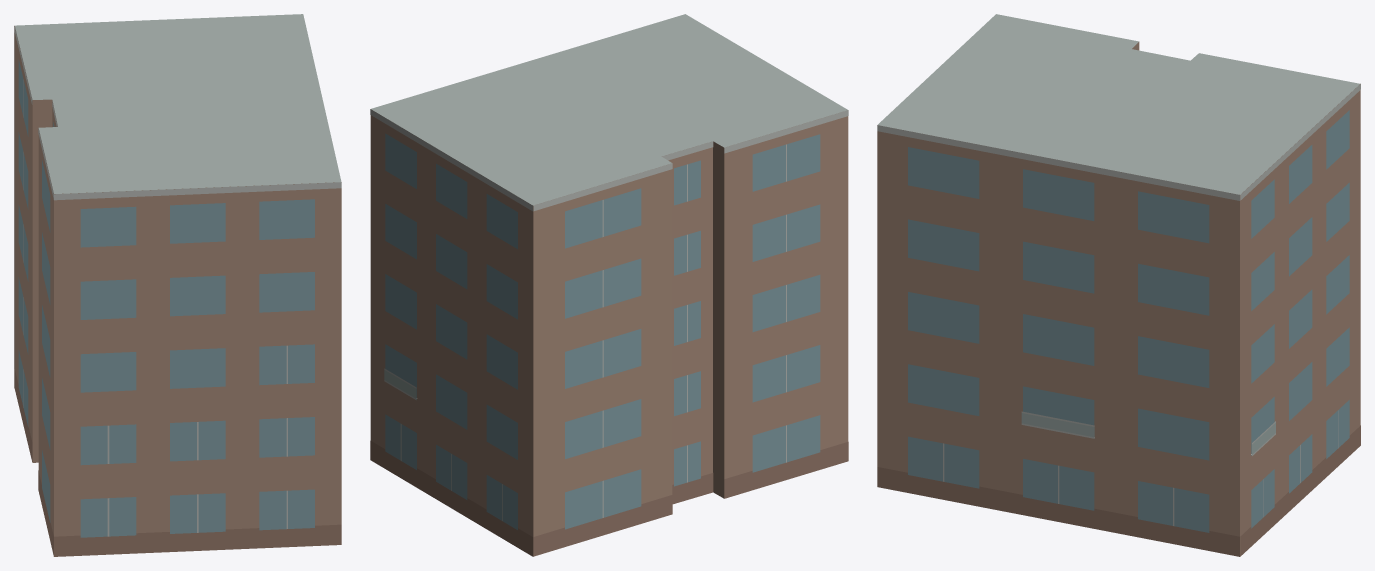
File: survey-upis-32672066.glb
3 renders of one model, left to right at view 1: azimuth 30°, elevation 25°; view 2: azimuth 150°, elevation 25°; view 3: azimuth 270°, elevation 25°, orthographic. The views are drawn at different scales.
Parts seen in each view (by area): view 1: survey-upis-32672066.tmp; view 2: survey-upis-32672066.tmp; view 3: survey-upis-32672066.tmp.
Part boxes in pixels (bbox=[...]): survey-upis-32672066.tmp: bbox=[14, 14, 341, 556]; survey-upis-32672066.tmp: bbox=[370, 14, 848, 556]; survey-upis-32672066.tmp: bbox=[877, 14, 1360, 556].
Size of the model in its own units: 15.39 by 14.35 by 17.38.
